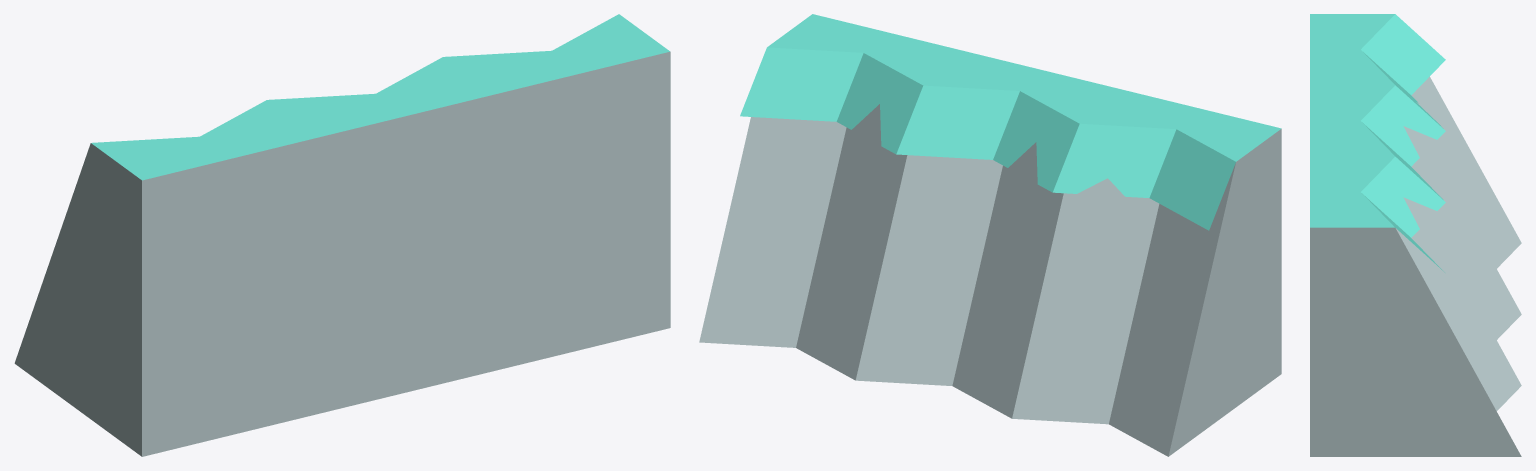
Rendered from cliff_half_stone.glb.
3 renders of one model, left to right at view 1: azimuth 30°, elevation 25°; view 2: azimuth 150°, elevation 25°; view 3: azimuth 270°, elevation 25°, orthographic. The views are drawn at different scales.
Visible parts, largest first — view 1: cliff_half_stone; view 2: cliff_half_stone; view 3: cliff_half_stone.
Boxes of the visible parts, x1,y1,x2,y2 form: cliff_half_stone: (14, 14, 670, 456); cliff_half_stone: (699, 14, 1281, 456); cliff_half_stone: (1310, 14, 1521, 456).
Size of the model in its own units: 1 by 0.5 by 0.4185.
